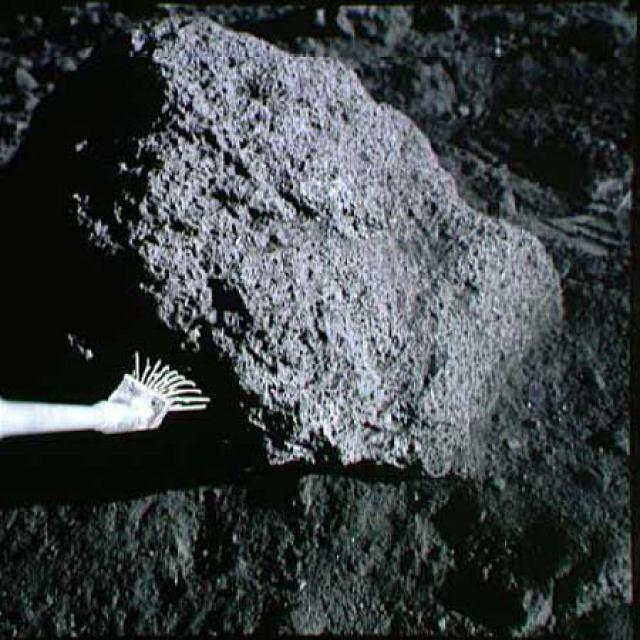artifact: (1, 349, 211, 449)
rock: (19, 9, 560, 482)
